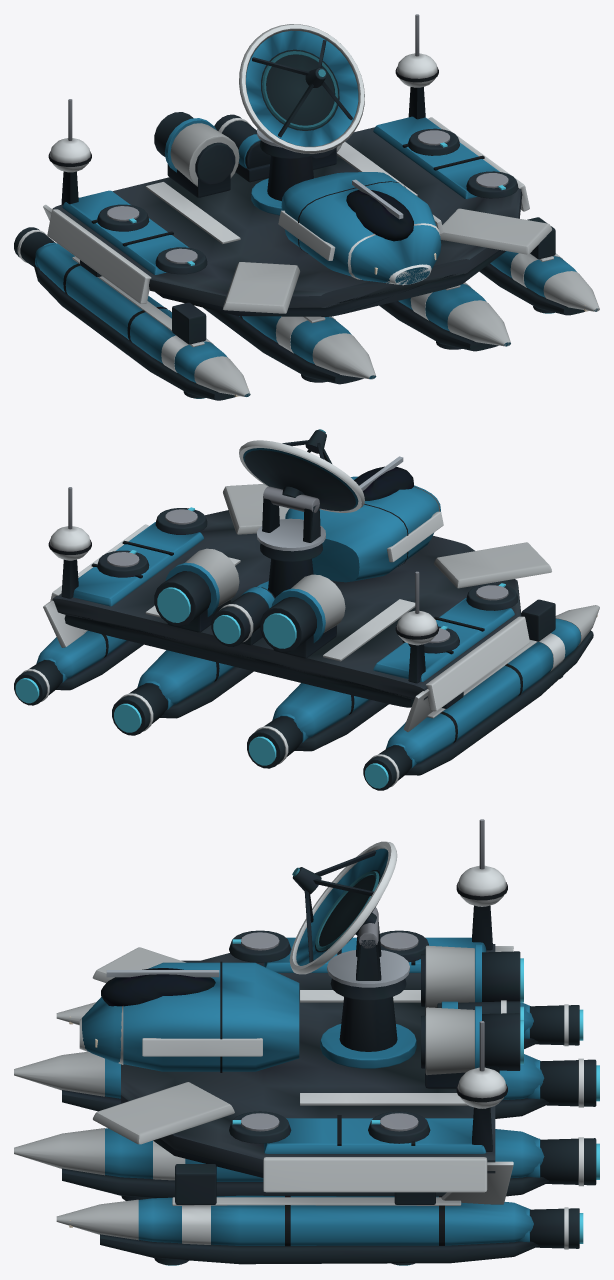
File: ex_skiff_11.glb
3 renders of one model, top to bottom at view 1: azimuth 30°, elevation 25°; view 2: azimuth 150°, elevation 25°; view 3: azimuth 270°, elevation 25°, orthographic. The views are drawn at different scales.
Parts seen in each view (by area): view 1: body, fan_0; view 2: body, fan_0; view 3: body, fan_0.
Part boxes in pixels (box(x1,y1,x2,y2)): body: box(14, 14, 599, 400); fan_0: box(239, 24, 364, 158); body: box(14, 456, 599, 790); fan_0: box(239, 429, 364, 561); body: box(14, 819, 599, 1265); fan_0: box(289, 841, 409, 1000).
Bounding box in the file's own units: 11.46 × 7.16 × 12.36.
